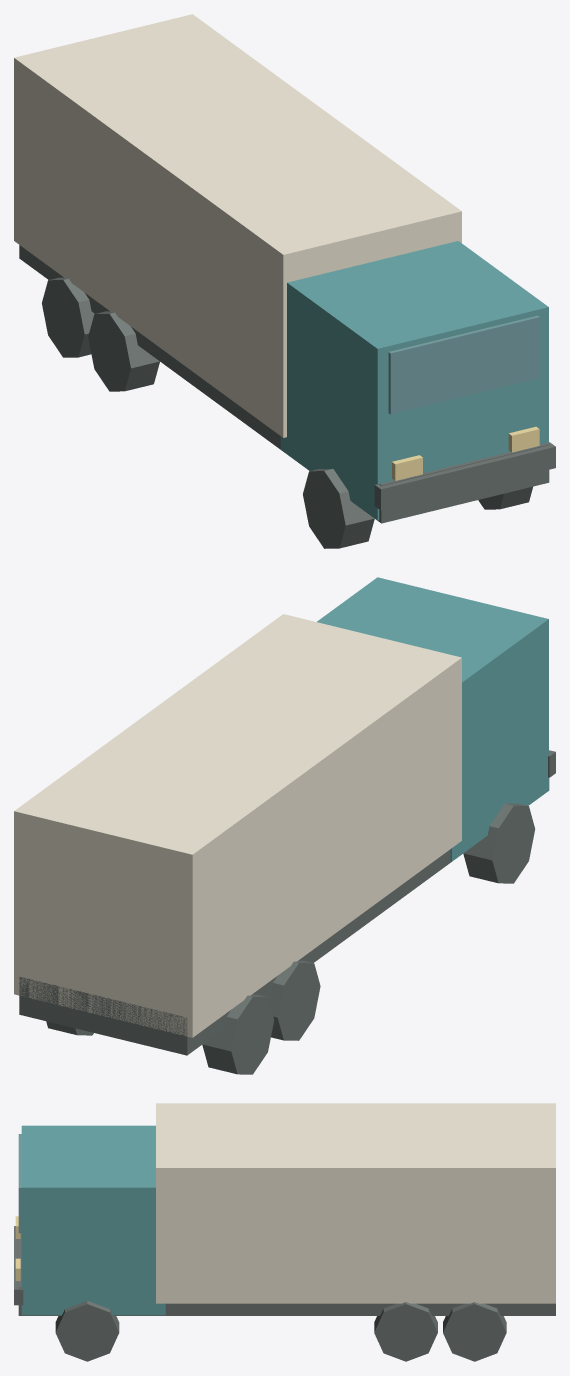
3 views of the same model, one above another, from view 1: azimuth 30°, elevation 25°; view 2: azimuth 150°, elevation 25°; view 3: azimuth 270°, elevation 25° (orthographic). The views are drawn at different scales.
Bounding box in the file's own units: 2.6 × 3.39 × 8.68.
